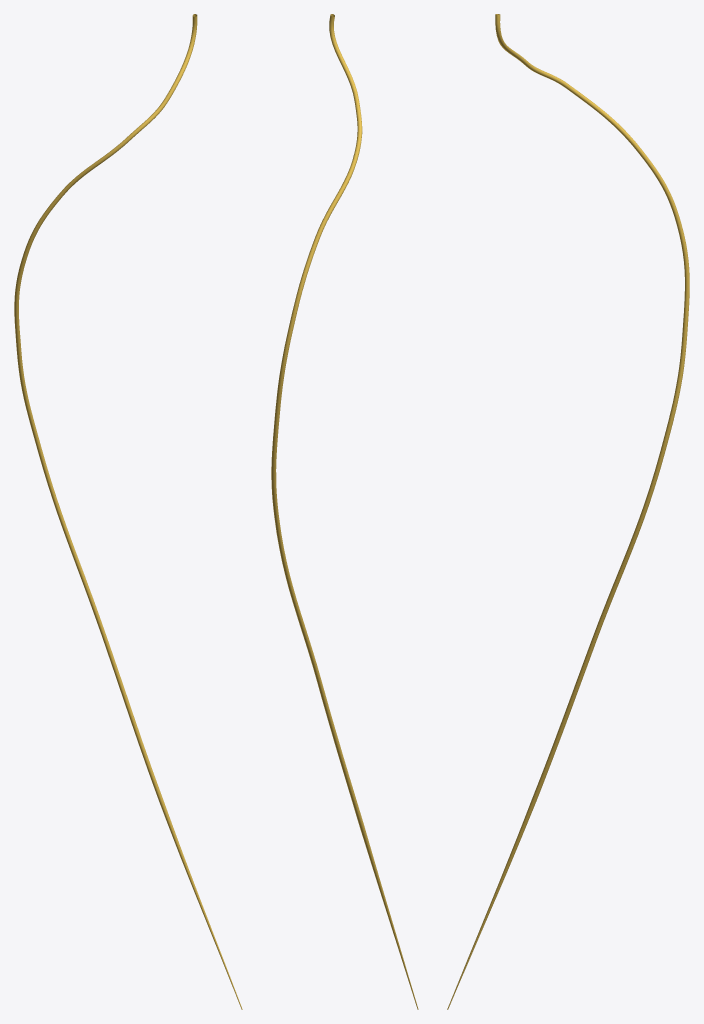
File: Posterior_antebrachial_cutaneous_nerve_right.glb
3 views of the same model, side by side, from view 1: azimuth 90°, elevation 25°; view 2: azimuth 150°, elevation 25°; view 3: azimuth 270°, elevation 25° (orthographic). The views are drawn at different scales.
Parts seen in each view (by area): view 1: Posterior_antebrachial_cutaneous_nerve.r_BezierCurve.491; view 2: Posterior_antebrachial_cutaneous_nerve.r_BezierCurve.491; view 3: Posterior_antebrachial_cutaneous_nerve.r_BezierCurve.491.
Boxes of the visible parts, <box> form: Posterior_antebrachial_cutaneous_nerve.r_BezierCurve.491: <box>14,14,242,1009</box>; Posterior_antebrachial_cutaneous_nerve.r_BezierCurve.491: <box>271,14,418,1009</box>; Posterior_antebrachial_cutaneous_nerve.r_BezierCurve.491: <box>447,14,689,1009</box>.
Bounding box in the file's own units: 0.0159 × 0.2309 × 0.0494.
